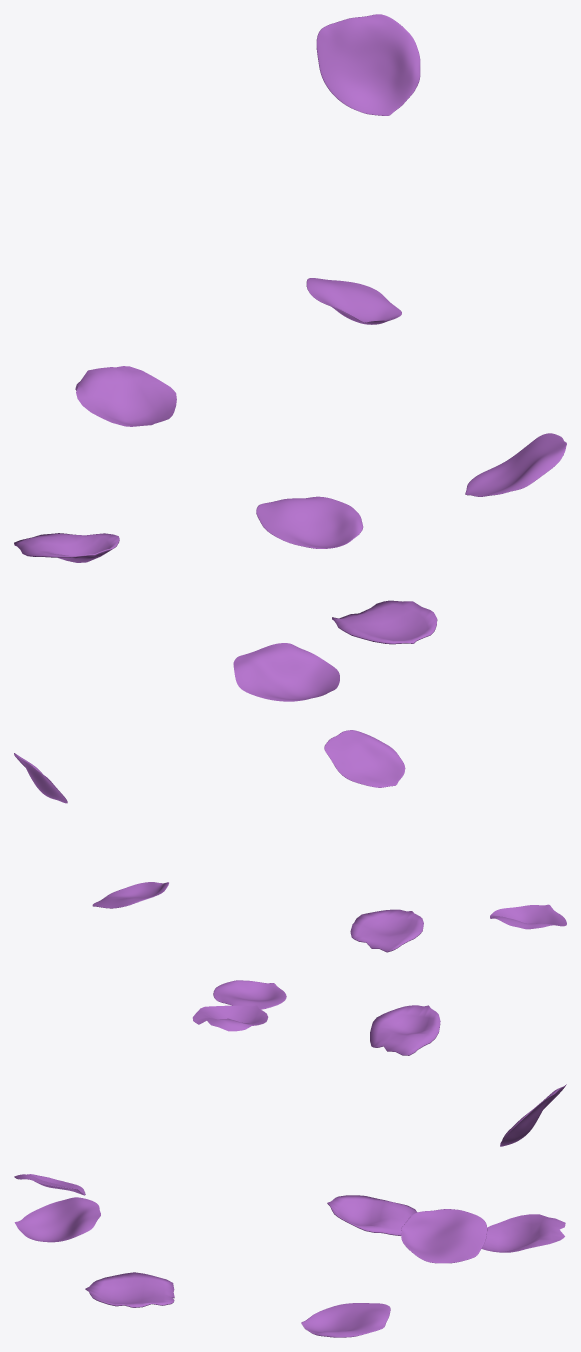
File: petal.glb
3 views of the same model, one above another, from view 1: azimuth 30°, elevation 25°; view 2: azimuth 150°, elevation 25°; view 3: azimuth 270°, elevation 25° (orthographic). The views are drawn at different scales.
Parts seen in each view (by area): view 1: petal8, petal6, petal5, petal7, petal1, petal2, petal4, petal3; view 2: petal2, petal3, petal1, petal7, petal5, petal6, petal4, petal8; view 3: petal4, petal6, petal1, petal7, petal3, petal5, petal8, petal2.
Boxes of the visible parts, left/top/right/bottom form: petal8: left=316, top=14, right=420, bottom=115; petal6: left=233, top=643, right=339, bottom=701; petal5: left=75, top=366, right=176, bottom=426; petal7: left=256, top=496, right=363, bottom=548; petal1: left=332, top=600, right=437, bottom=644; petal2: left=465, top=433, right=566, bottom=496; petal4: left=306, top=278, right=401, bottom=324; petal3: left=14, top=533, right=119, bottom=562; petal2: left=324, top=730, right=405, bottom=787; petal3: left=370, top=1005, right=440, bottom=1055; petal1: left=350, top=909, right=423, bottom=952; petal7: left=213, top=980, right=286, bottom=1009; petal5: left=192, top=1005, right=268, bottom=1031; petal6: left=490, top=904, right=566, bottom=929; petal4: left=92, top=882, right=168, bottom=908; petal8: left=14, top=753, right=67, bottom=803; petal4: left=401, top=1209, right=487, bottom=1263; petal6: left=14, top=1197, right=100, bottom=1242; petal1: left=85, top=1272, right=174, bottom=1307; petal7: left=301, top=1303, right=390, bottom=1337; petal3: left=327, top=1195, right=417, bottom=1235; petal5: left=481, top=1214, right=565, bottom=1252; petal8: left=500, top=1084, right=566, bottom=1146; petal2: left=14, top=1174, right=85, bottom=1195.
Size of the model in its own units: 9.44 by 7.2 by 11.57.
